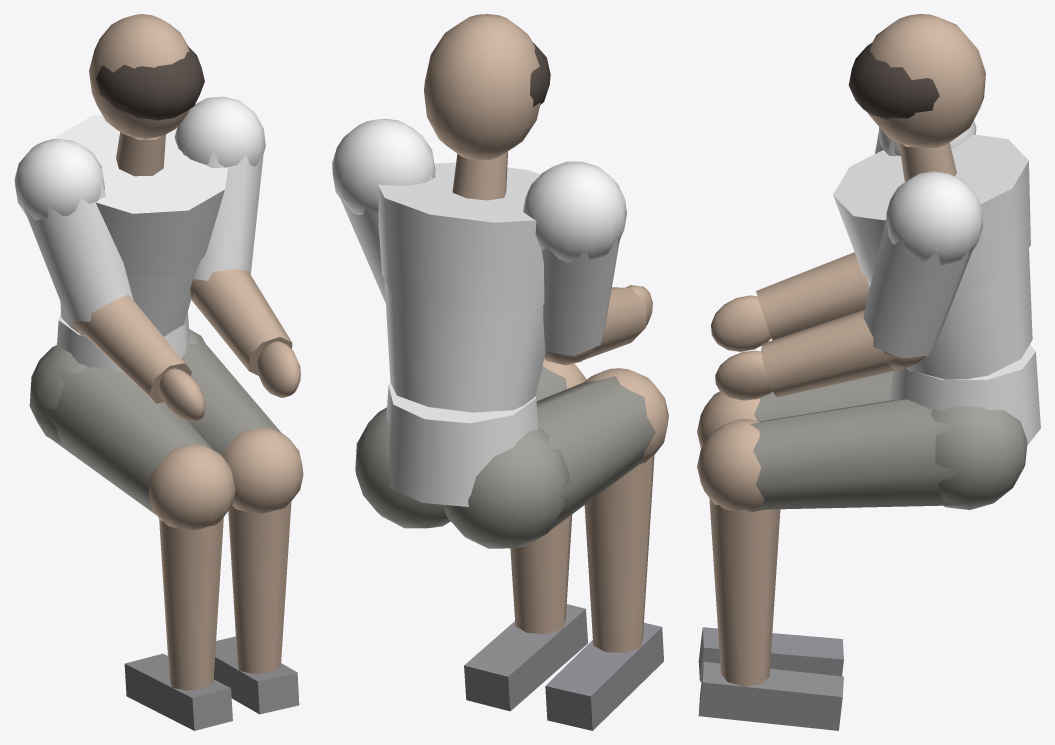
Rendered from crowd_b_lean.glb.
The picture shows the model from 3 angles, left to right: view 1: azimuth 30°, elevation 25°; view 2: azimuth 150°, elevation 25°; view 3: azimuth 270°, elevation 25°; orthographic projection. The views are drawn at different scales.
Visible parts, largest first — view 1: crowd_b_body; view 2: crowd_b_body; view 3: crowd_b_body.
Part boxes in pixels (x1,y1,x2,y2): crowd_b_body: [14, 14, 303, 730]; crowd_b_body: [332, 14, 668, 730]; crowd_b_body: [697, 14, 1040, 730].
Bounding box in the file's own units: 0.5206 × 1.31 × 0.5965.
